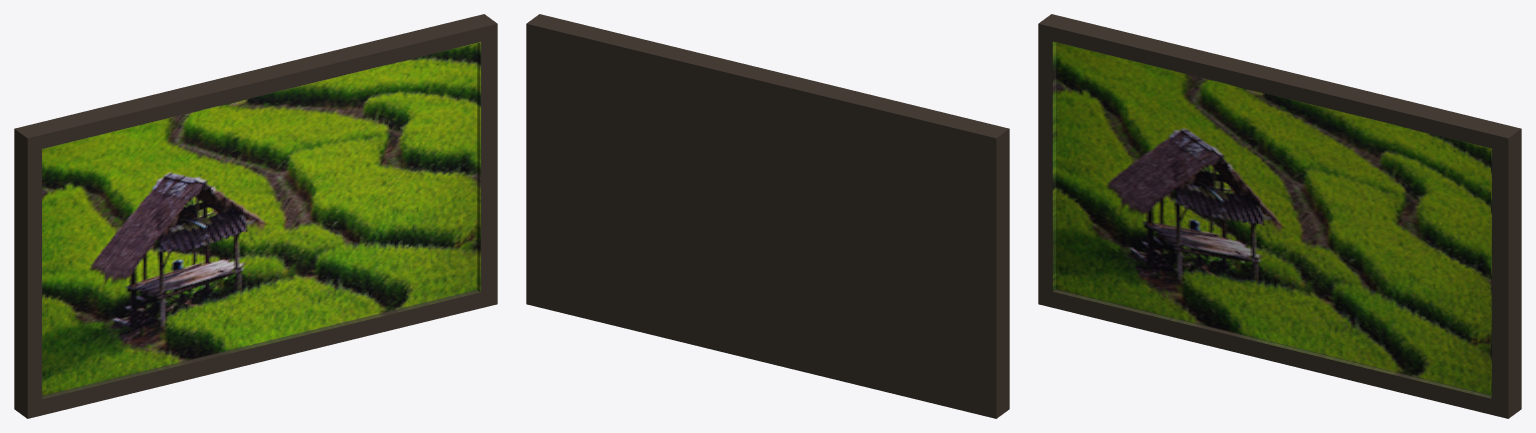
Rendered from lukisan ruang makan.fbx.
The picture shows the model from 3 angles, left to right: view 1: azimuth 30°, elevation 25°; view 2: azimuth 150°, elevation 25°; view 3: azimuth 330°, elevation 25°; orthographic projection.
Parts seen in each view (by area): view 1: Cube; view 2: Cube; view 3: Cube.
Part boxes in pixels (x1,y1,x2,y2): Cube: (14, 14, 497, 418); Cube: (526, 14, 1009, 418); Cube: (1038, 14, 1521, 418).
Size of the model in its own units: 436 by 249 by 21.32.
Materials: 1 (1 with a texture image).
